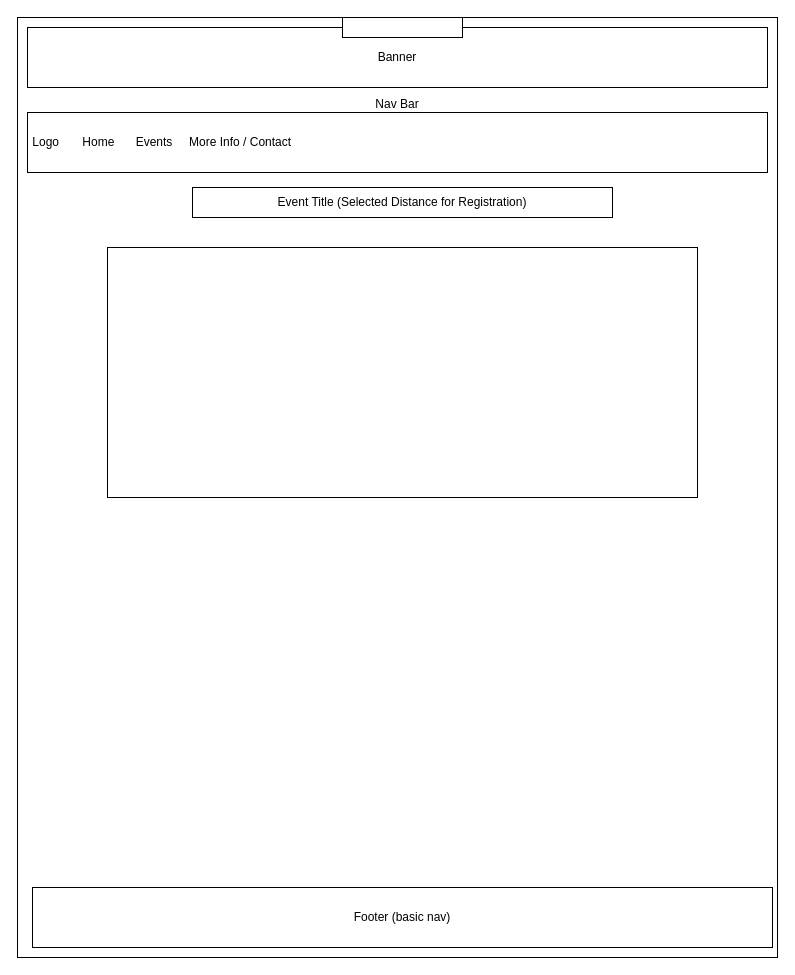
Some shapes in this 795 by 975 pixel diagram are drawn without their labels. Here are the shapes that lost their labels. From the top down, the centre of each, then its label:
the point at 402,27: Event Registration
the point at 402,372: Registration Form
